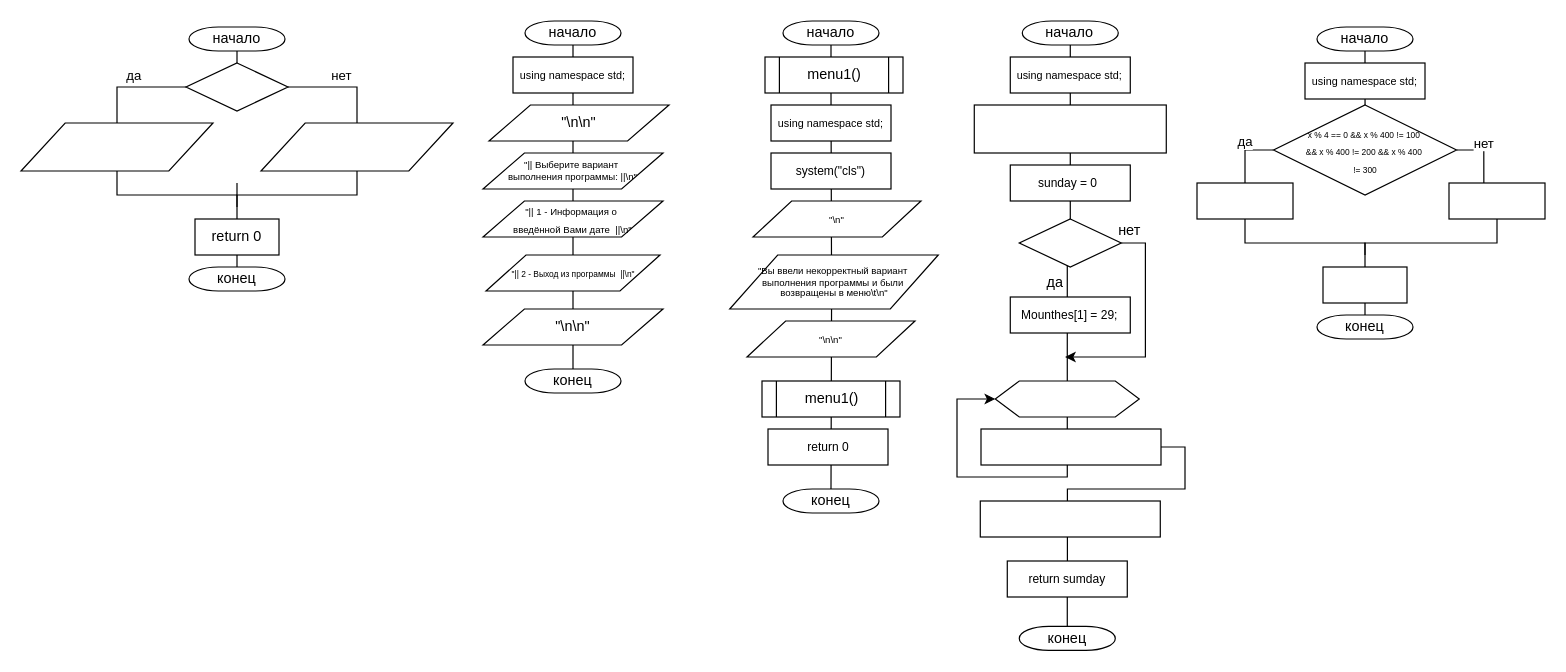
Some shapes in this 1566 by 672 pixel diagram are drawn without their labels. The shapes that lost their labels are listed below. From the top down, each one's centre as x and y in pixels, then its label:
pixel 236 86: x==1
pixel 116 146: "|| День программиста в введённом Вами году - 12 сент.\n"
pixel 356 146: "|| День программиста в введённом Вами году - 13 сент.\n"
pixel 1069 128: int Mounthes[12] = { 31, 28, 31, 30, 31, 30, 31, 31, 30, 31, 30, 31 };
pixel 1244 200: y=1
pixel 1496 200: y=0
pixel 1069 242: z==1
pixel 1364 284: return y
pixel 1066 398: int i = 0; i < x - 1; i++
pixel 1070 446: sumday = sumday + Mounthes[i];
pixel 1069 518: sumday = sumday + y;
